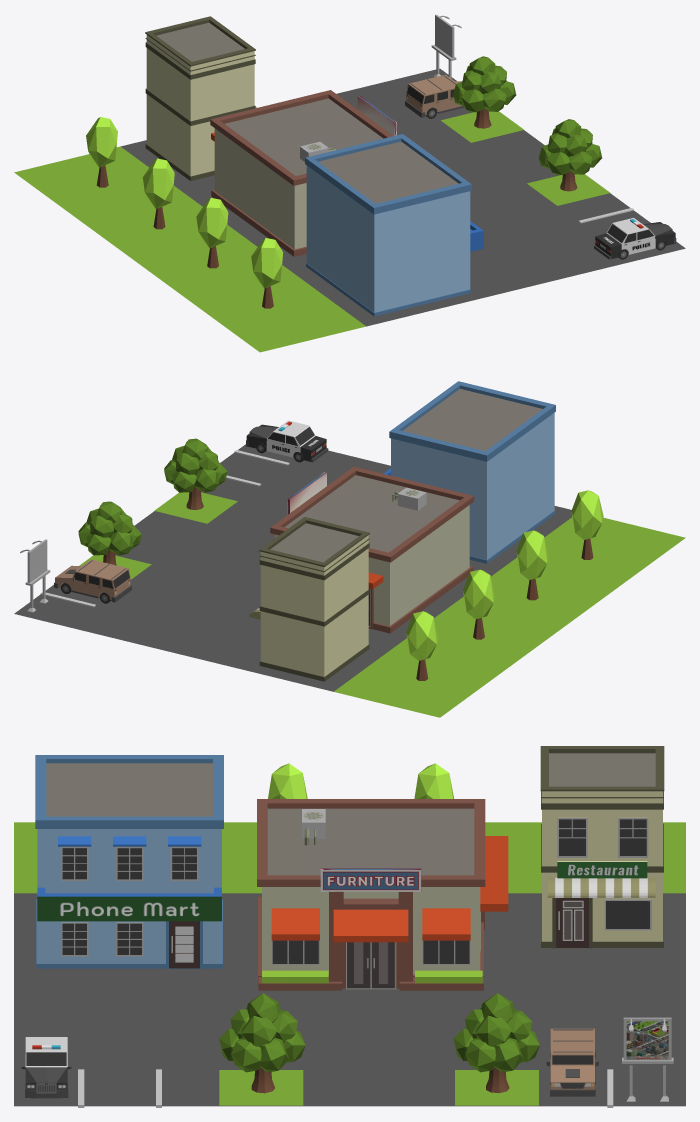
The model's file is fastfood.gltf.
3 renders of one model, top to bottom at view 1: azimuth 30°, elevation 25°; view 2: azimuth 150°, elevation 25°; view 3: azimuth 270°, elevation 25°, orthographic. The views are drawn at different scales.
Parts seen in each view (by area): view 1: Road Tile_Plane.003, Building_Fast Food_Cube.006, Natures_Grass Tile_Plane.010, Building_Pizza_Cube.012, Building_Restaurant_Cube.014, Natures_Bush_01_Cylinder (×4), Natures_Big Tree_Mesh.008 (×2), Natures_Grass Tile Small_Plane.010 (×2), Vehicle_Police Car_Cube.036, Vehicle_SUV_Cube.096, Props_BillBoard_medium_Cube.543; view 2: Road Tile_Plane.003, Natures_Grass Tile_Plane.010, Building_Fast Food_Cube.006, Building_Pizza_Cube.012, Building_Restaurant_Cube.014, Natures_Bush_01_Cylinder (×4), Natures_Big Tree_Mesh.008 (×2), Vehicle_SUV_Cube.096, Vehicle_Police Car_Cube.036, Natures_Grass Tile Small_Plane.010 (×2), Props_BillBoard_medium_Cube.543, Props_Roof prop air_Cylinder.034; view 3: Road Tile_Plane.003, Building_Pizza_Cube.012, Building_Fast Food_Cube.006, Building_Restaurant_Cube.014, Natures_Big Tree_Mesh.008 (×2), Natures_Grass Tile_Plane.010, Natures_Grass Tile Small_Plane.010 (×2), Vehicle_SUV_Cube.096, Vehicle_Police Car_Cube.036, Props_BillBoard_medium_Cube.543, Natures_Bush_01_Cylinder (×2), Props_Roof prop air_Cylinder.034.
Part boxes in pixels (x1,y1,x2,y2): Road Tile_Plane.003: (121,68,685,326); Building_Fast Food_Cube.006: (305,134,483,316); Natures_Grass Tile_Plane.010: (14,146,365,352); Building_Pizza_Cube.012: (210,90,396,256); Building_Restaurant_Cube.014: (145,16,256,180); Natures_Bush_01_Cylinder (×4): (86,117,283,308); Natures_Big Tree_Mesh.008 (×2): (453,56,602,191); Natures_Grass Tile Small_Plane.010 (×2): (441,111,609,205); Vehicle_Police Car_Cube.036: (594,217,676,259); Vehicle_SUV_Cube.096: (405,74,464,118); Props_BillBoard_medium_Cube.543: (431,14,461,78); Road Tile_Plane.003: (14,444,572,691); Natures_Grass Tile_Plane.010: (334,517,685,717); Building_Fast Food_Cube.006: (383,381,555,563); Building_Pizza_Cube.012: (270,466,474,633); Building_Restaurant_Cube.014: (249,517,369,681); Natures_Bush_01_Cylinder (×4): (406,490,603,680); Natures_Big Tree_Mesh.008 (×2): (78,438,227,565); Vehicle_SUV_Cube.096: (54,559,131,603); Vehicle_Police Car_Cube.036: (246,420,328,462); Natures_Grass Tile Small_Plane.010 (×2): (79,492,237,579); Props_BillBoard_medium_Cube.543: (20,539,50,612); Props_Roof prop air_Cylinder.034: (392,487,426,510); Road Tile_Plane.003: (14,893,685,1106); Building_Pizza_Cube.012: (257,799,508,990); Building_Fast Food_Cube.006: (35,755,223,968); Building_Restaurant_Cube.014: (540,746,664,948); Natures_Big Tree_Mesh.008 (×2): (219,993,539,1093); Natures_Grass Tile_Plane.010: (14,822,685,893); Natures_Grass Tile Small_Plane.010 (×2): (219,1070,538,1105); Vehicle_SUV_Cube.096: (546,1028,598,1096); Vehicle_Police Car_Cube.036: (21,1037,71,1098); Props_BillBoard_medium_Cube.543: (622,1017,673,1101); Natures_Bush_01_Cylinder (×2): (268,763,453,798); Props_Roof prop air_Cylinder.034: (302,809,325,845).
Bounding box in the file's own units: 40.15 × 10.51 × 40.
Materials: 13 (13 with a texture image).
